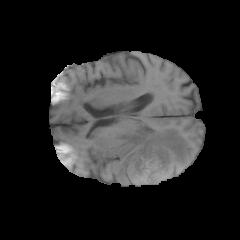glioma: (108, 126, 189, 185)
